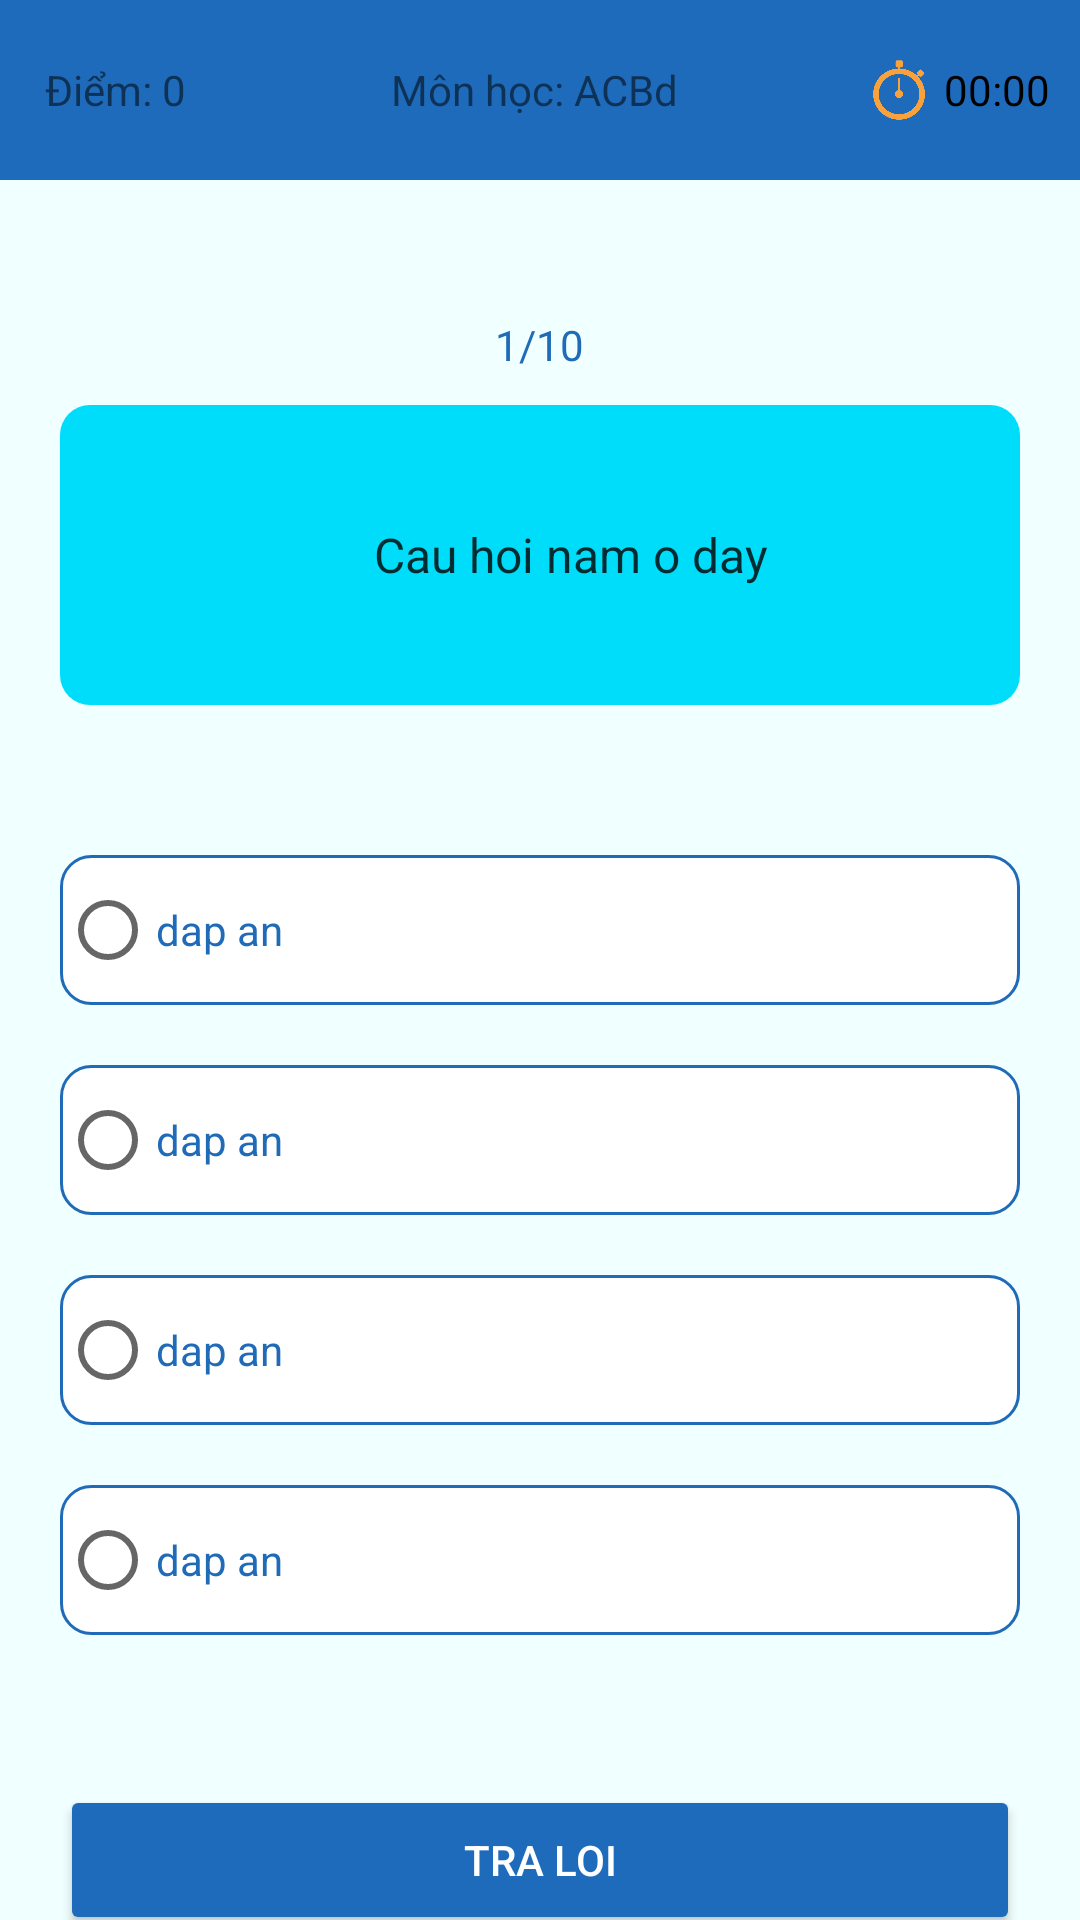

Point at icon controls on the screen. Image size 1080px x 1920px, points as [x,y].
timer: [899,90]
